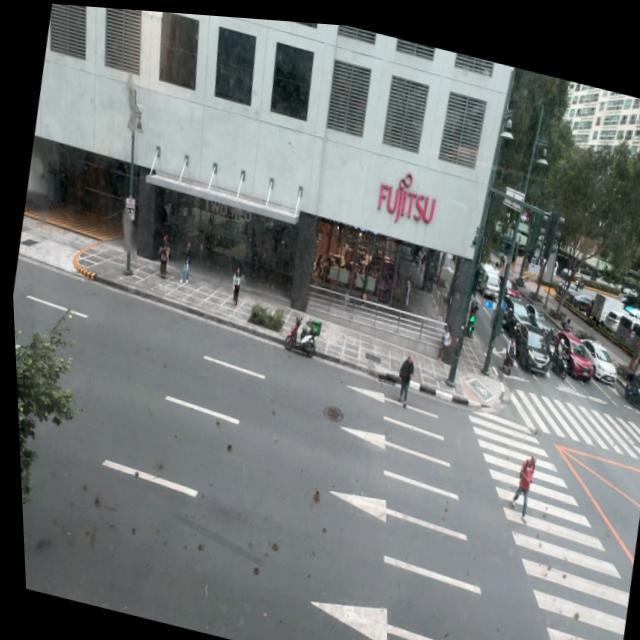jaywalking: (393, 352, 417, 408)
